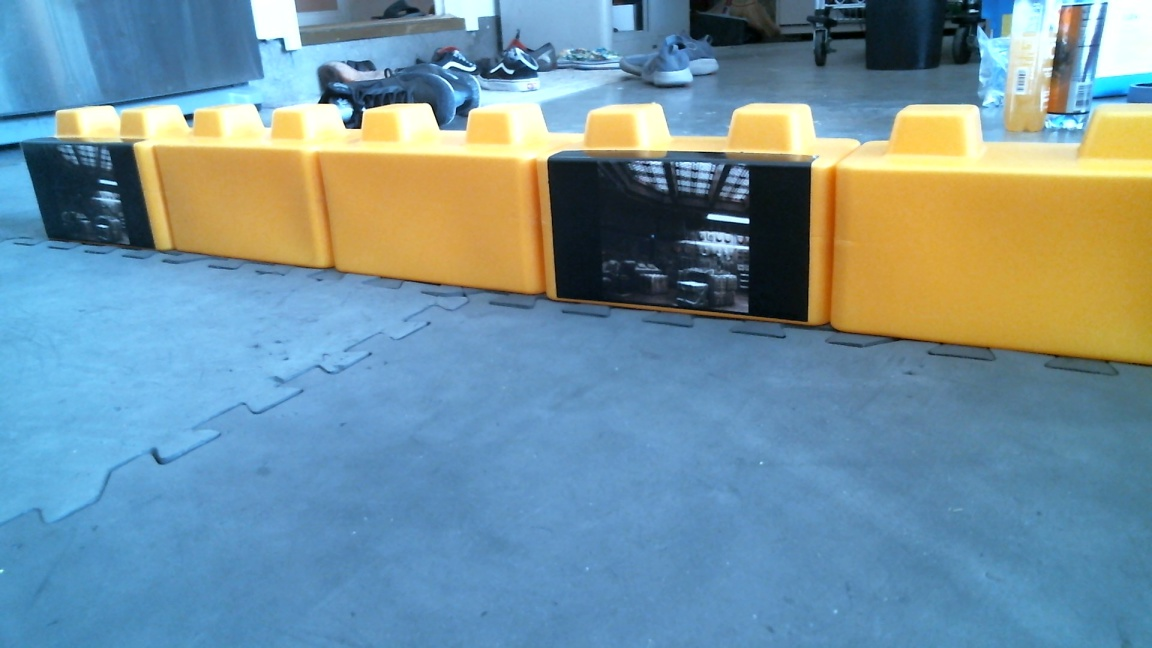center: (316, 100, 1152, 365)
left: (17, 97, 546, 293)
right: (152, 101, 839, 332)
